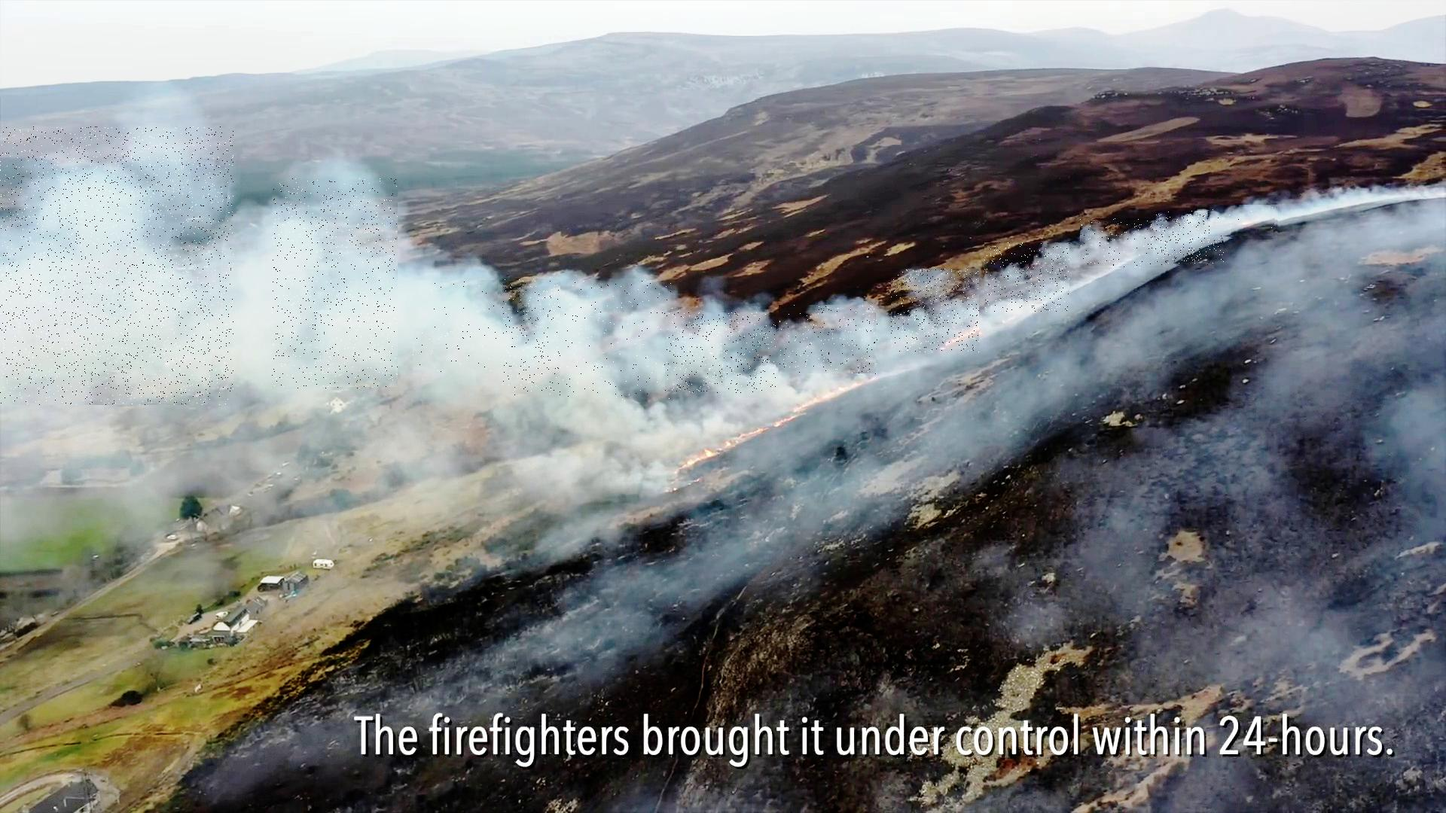smoke: (0, 127, 234, 405), (272, 179, 398, 389), (561, 279, 675, 402), (502, 279, 616, 395), (667, 313, 776, 393), (413, 281, 501, 372), (891, 269, 979, 353), (779, 305, 878, 375), (984, 243, 1070, 312), (1081, 219, 1164, 268), (1156, 211, 1224, 265), (1210, 205, 1279, 238)
